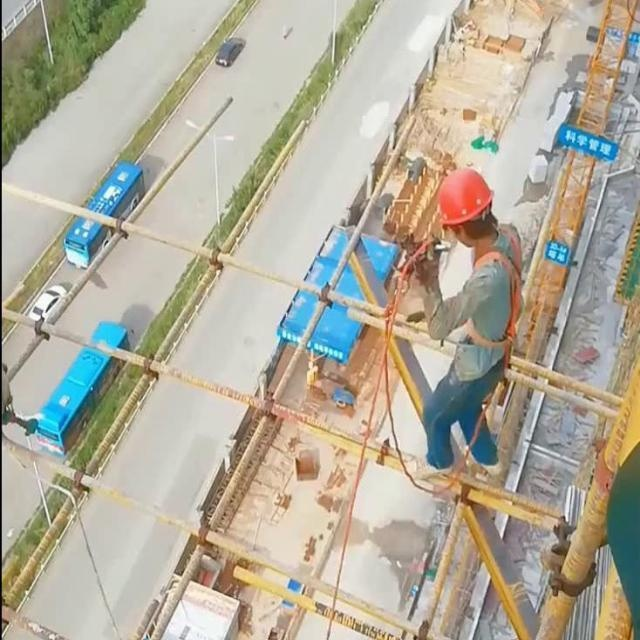Arnes_seguridad: (461, 220, 527, 354)
